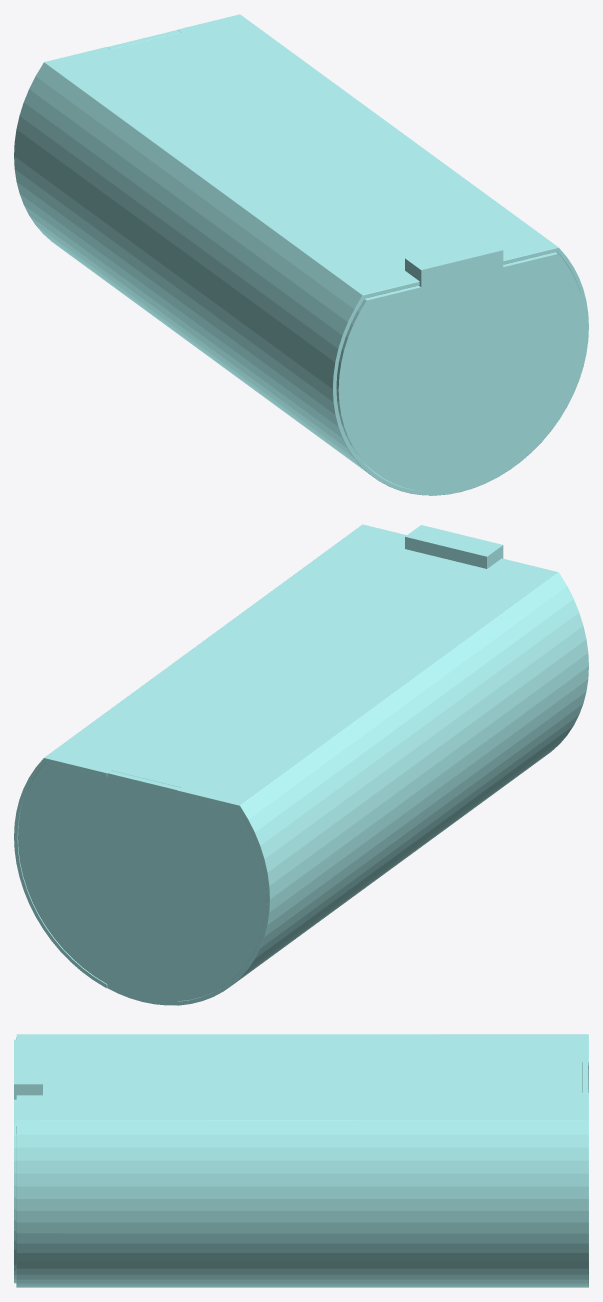
The model's file is KaffeeMaschine_1.fbx.
3 views of the same model, one above another, from view 1: azimuth 30°, elevation 25°; view 2: azimuth 150°, elevation 25°; view 3: azimuth 270°, elevation 25° (orthographic). The views are drawn at different scales.
Visible parts, largest first — view 1: Polyeder 12, Polyeder 13; view 2: Polyeder 12, Polyeder 14, Polyeder 13; view 3: Polyeder 12, Polyeder 13.
Boxes of the visible parts, x1,y1,x2,y2 form: Polyeder 12: (14,14,588,495); Polyeder 13: (336,238,585,491); Polyeder 12: (14,524,588,1005); Polyeder 14: (18,762,266,1005); Polyeder 13: (405,525,503,568); Polyeder 12: (16,1034,588,1287); Polyeder 13: (14,1039,42,1283).
Size of the model in its own units: 0.0868 by 0.188 by 0.0754.
